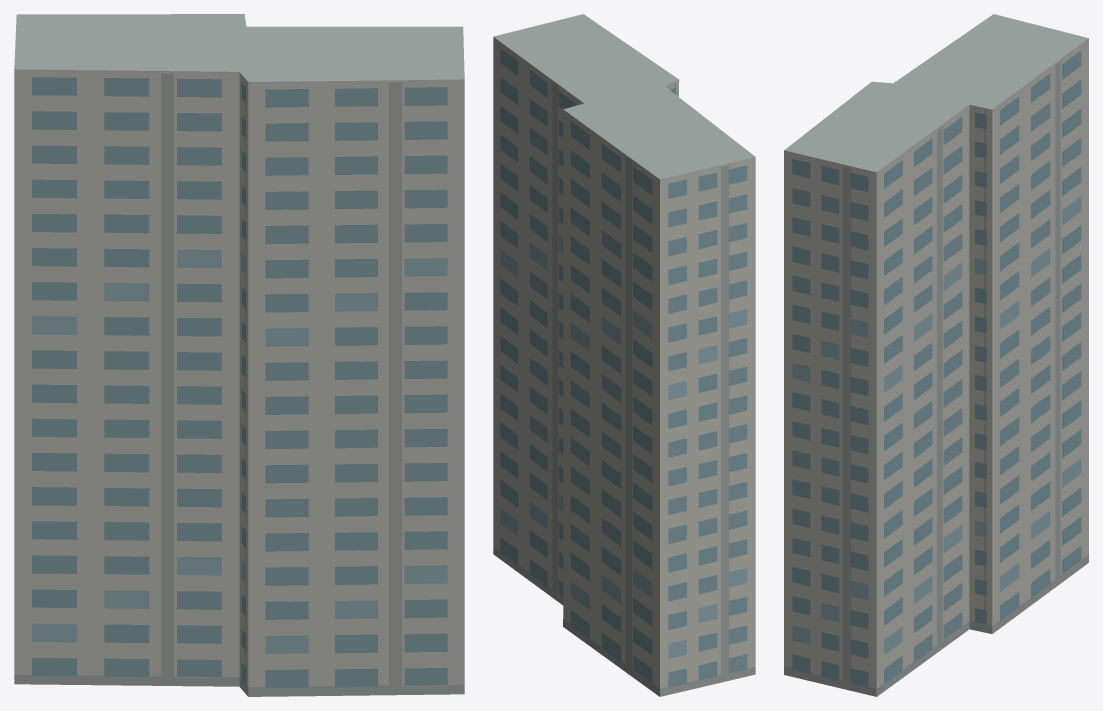
The model's file is residential-8235822e-8498-4703-bb13-d52af709c4a4.glb.
The picture shows the model from 3 angles, left to right: view 1: azimuth 30°, elevation 25°; view 2: azimuth 150°, elevation 25°; view 3: azimuth 270°, elevation 25°; orthographic projection. The views are drawn at different scales.
Parts seen in each view (by area): view 1: residential-8235822e-8498-4703-bb13-d52af709c4a4.tmp; view 2: residential-8235822e-8498-4703-bb13-d52af709c4a4.tmp; view 3: residential-8235822e-8498-4703-bb13-d52af709c4a4.tmp.
Part boxes in pixels (x1,y1,x2,y2): residential-8235822e-8498-4703-bb13-d52af709c4a4.tmp: [14, 14, 464, 696]; residential-8235822e-8498-4703-bb13-d52af709c4a4.tmp: [493, 14, 755, 696]; residential-8235822e-8498-4703-bb13-d52af709c4a4.tmp: [784, 14, 1088, 696].
Bounding box in the file's own units: 40.16 × 62 × 32.66.
